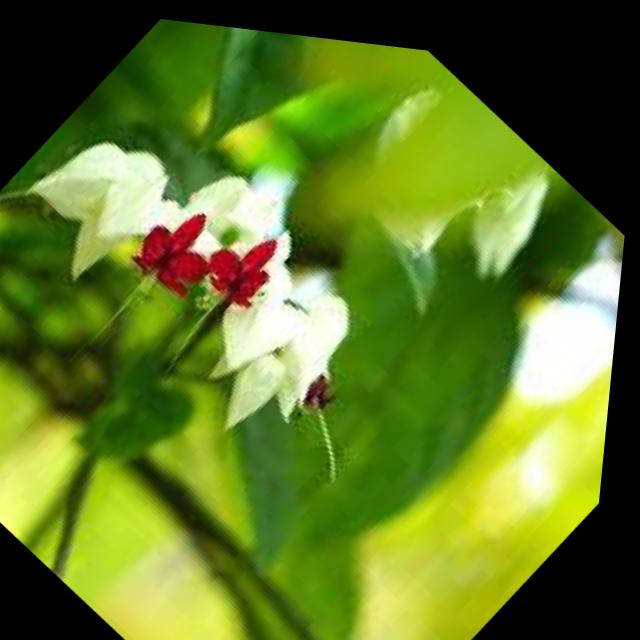Flower: (4, 40, 456, 470)
